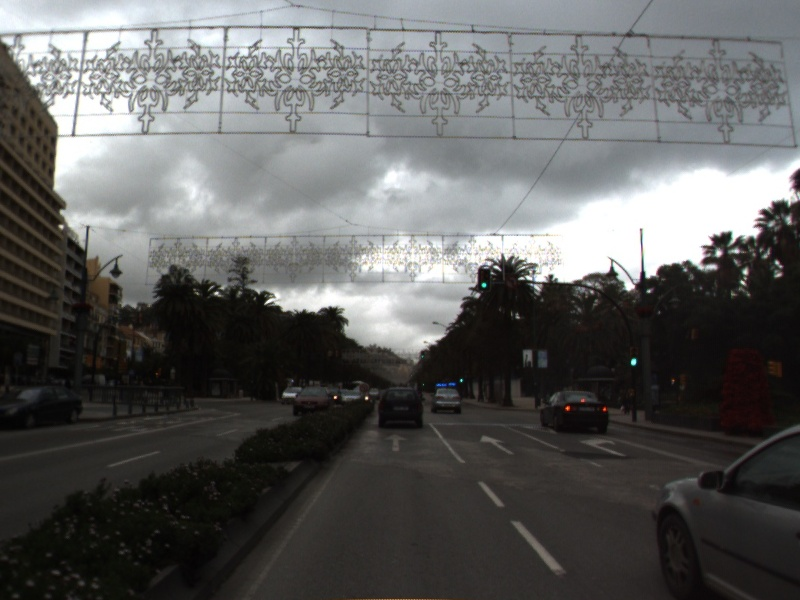RIGHT: (577, 434, 630, 459)
STRAIGHT: (477, 433, 517, 457), (382, 432, 411, 453)
